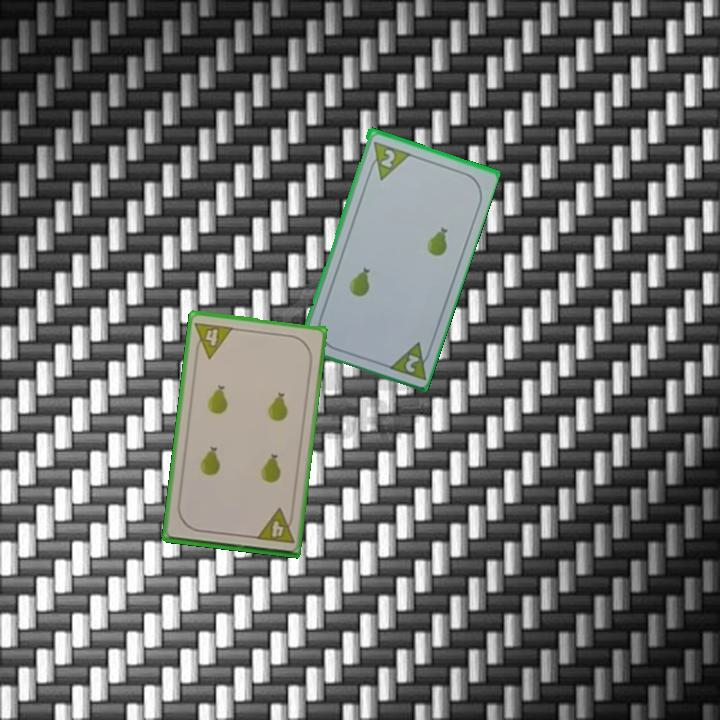2p: (383, 338, 435, 382), (376, 145, 398, 170)
4p: (191, 318, 236, 361), (252, 505, 297, 546)
